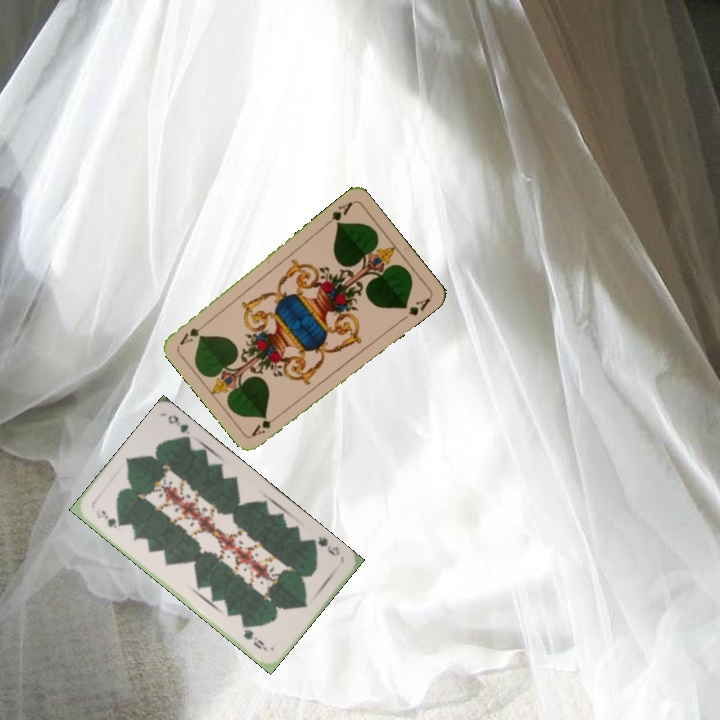G9: (307, 532, 343, 559), (97, 506, 123, 531)
GA: (321, 198, 355, 229), (248, 410, 283, 439)
